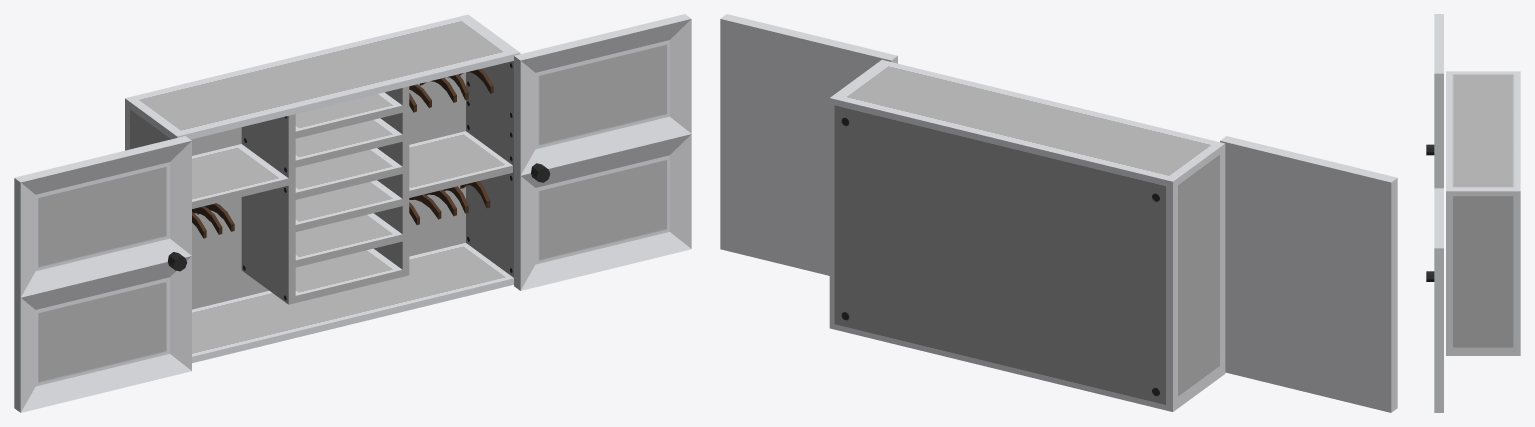
Rendered from Closet and hangers.obj.
3 views of the same model, side by side, from view 1: azimuth 30°, elevation 25°; view 2: azimuth 150°, elevation 25°; view 3: azimuth 270°, elevation 25° (orthographic). The views are drawn at different scales.
Visible parts, largest first — view 1: Closet, Door1, Door, Hangers; view 2: Closet, Door1, Door; view 3: Closet, Door, Door1.
Part boxes in pixels (<box>): Closet: <box>125,14,520,363</box>; Door1: <box>14,136,191,412</box>; Door: <box>514,14,691,290</box>; Hangers: <box>192,69,493,238</box>; Closet: <box>829,60,1225,411</box>; Door1: <box>1220,136,1397,412</box>; Door: <box>720,14,897,275</box>; Closet: <box>1446,71,1520,355</box>; Door: <box>1426,188,1443,412</box>; Door1: <box>1426,14,1443,188</box>.
Size of the model in its own units: 1090 by 358 by 186.
1 material, 1 textured.
